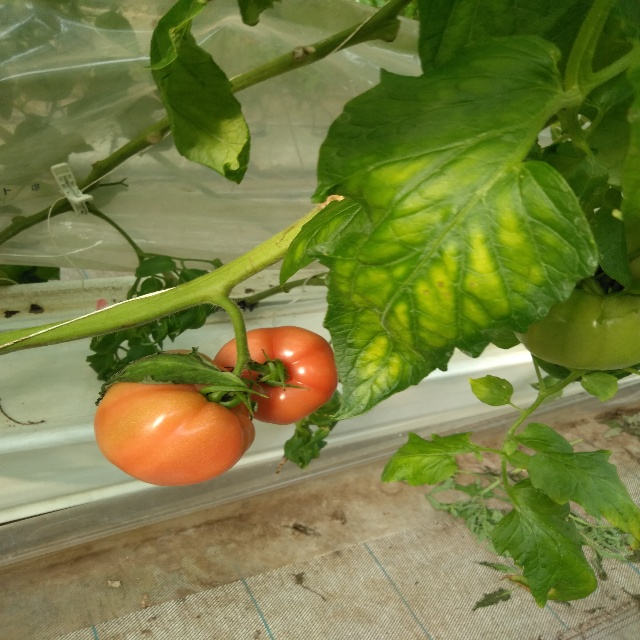b_green: (513, 288, 639, 371)
b_half_ripened: (93, 350, 256, 486), (214, 326, 338, 425)
